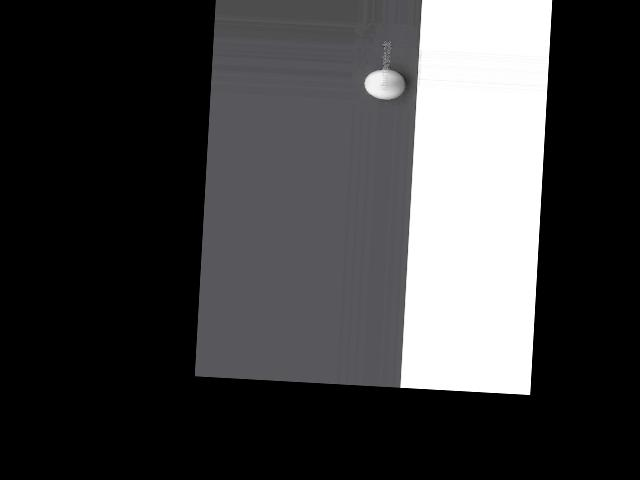egg: (363, 68, 406, 100)
